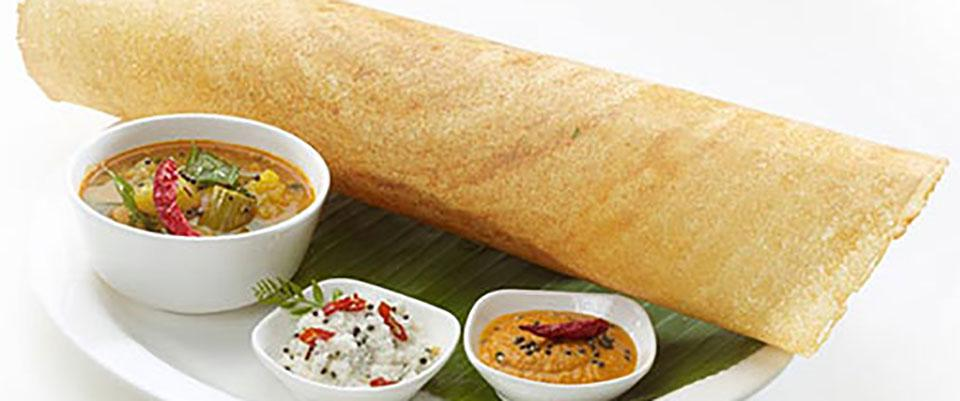dosa: (15, 1, 952, 366)
